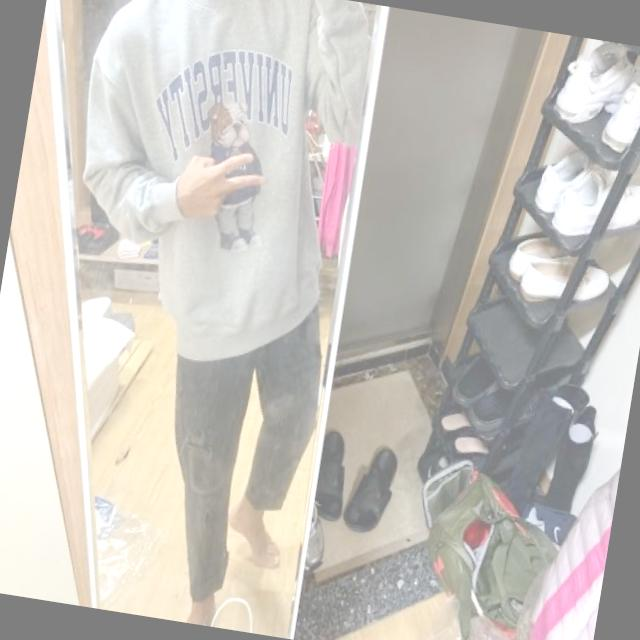mtm: (47, 0, 380, 386)
slacks: (144, 279, 339, 612)
